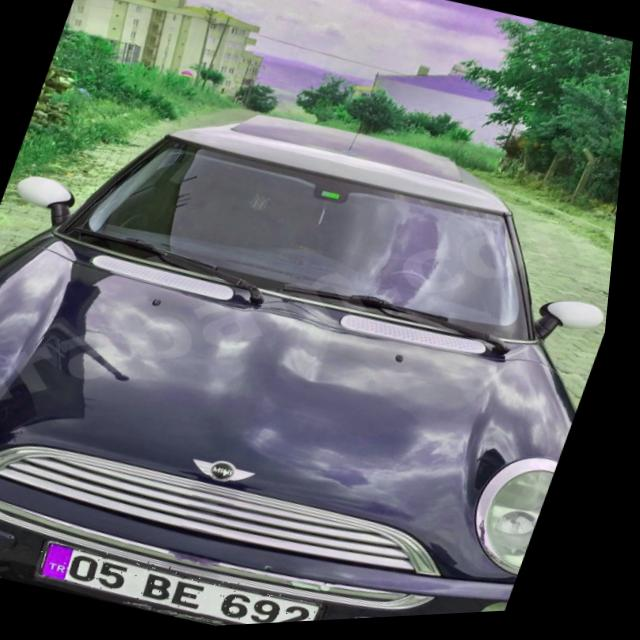license_plate: (39, 528, 341, 636)
